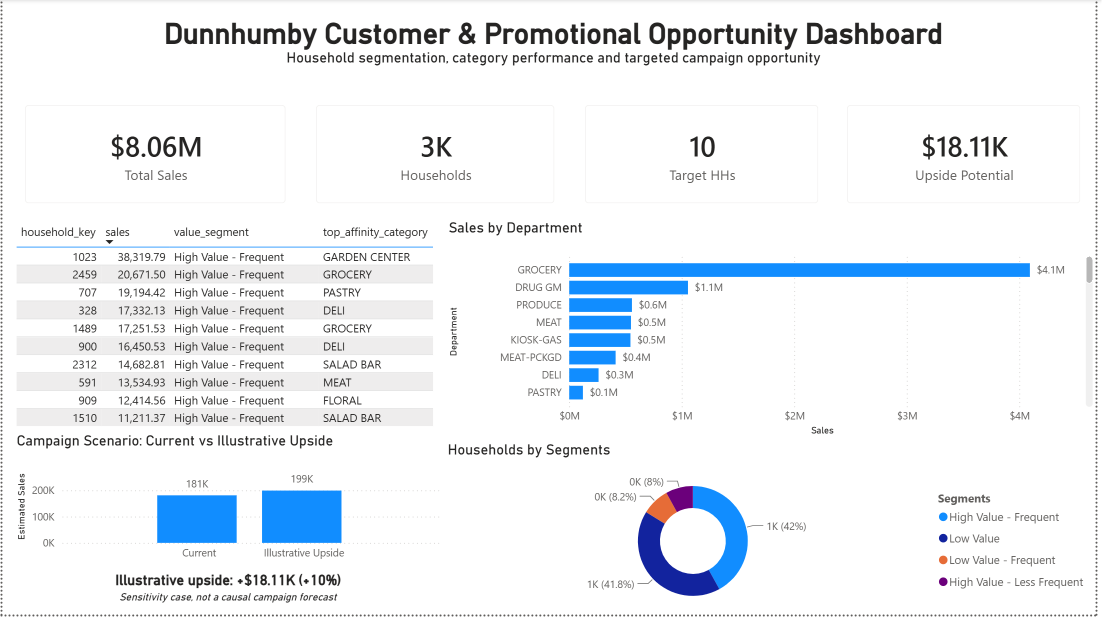

What the dashboard file says about the page in this screenshot:
{"tool":"powerbi","page":{"name":"Executive Overview","canvas":[1280,720],"ordinal":0},"visuals":[{"type":"textbox","box":[10.7,0,1269.3,107.2],"z":0},{"type":"cardVisual","fields":{"Data":["Sum(category_performance.sales)"]},"box":[9.2,107,339.5,149.9],"z":1000},{"type":"cardVisual","fields":{"Data":["Sum(household_segments.households)"]},"box":[350.1,107,313.8,149.9],"z":2000},{"type":"cardVisual","fields":{"Data":["Count(promotional_opportunities.household_key)"]},"box":[664.4,107,307.8,149.3],"z":3000},{"type":"cardVisual","fields":{"Data":["Sum(campaign_scenario.incremental_sales)"]},"box":[972.2,107,307.8,149.3],"z":4000},{"type":"clusteredBarChart","fields":{"Category":["category_performance.department"],"Y":["Sum(category_performance.sales)"]},"box":[517.8,257.3,763.8,257.3],"z":5000},{"type":"donutChart","fields":{"Category":["household_segments.value_segment"],"Y":["Sum(household_segments.households)"]},"box":[516.2,517.8,763.8,202.9],"z":6000},{"type":"tableEx","fields":{"Values":["promotional_opportunities.household_key","promotional_opportunities.sales","promotional_opportunities.value_segment","promotional_opportunities.top_affinity_category"]},"box":[10.6,256.3,507.2,251],"z":7000},{"type":"clusteredColumnChart","title":"Campaign Scenario: Current vs Illustrative Upside","fields":{"Category":["campaign_scenario.scenario"],"Y":["Sum(campaign_scenario.estimated_sales)"]},"box":[11.7,506.9,505.8,159.2],"z":8000},{"type":"textbox","box":[113.6,665,300.9,55],"z":9000}]}

Visuals, with their boxes in screenshot pixels (x1, y1, x2, y2), scaled from the page's 1280x720 canvas onto the 1102x618 screenshot:
textbox: detection(9, 0, 1101, 92)
cardVisual - Sum(category_performance.sales): detection(8, 92, 300, 221)
cardVisual - Sum(household_segments.households): detection(301, 92, 572, 221)
cardVisual - Count(promotional_opportunities.household_key): detection(572, 92, 837, 220)
cardVisual - Sum(campaign_scenario.incremental_sales): detection(837, 92, 1101, 220)
clusteredBarChart - category_performance.department x Sum(category_performance.sales): detection(446, 221, 1101, 442)
donutChart - household_segments.value_segment x Sum(household_segments.households): detection(444, 444, 1101, 617)
tableEx - promotional_opportunities.household_key x promotional_opportunities.sales: detection(9, 220, 446, 435)
"Campaign Scenario: Current vs Illustrative Upside" clusteredColumnChart: detection(10, 435, 446, 572)
textbox: detection(98, 571, 357, 617)
